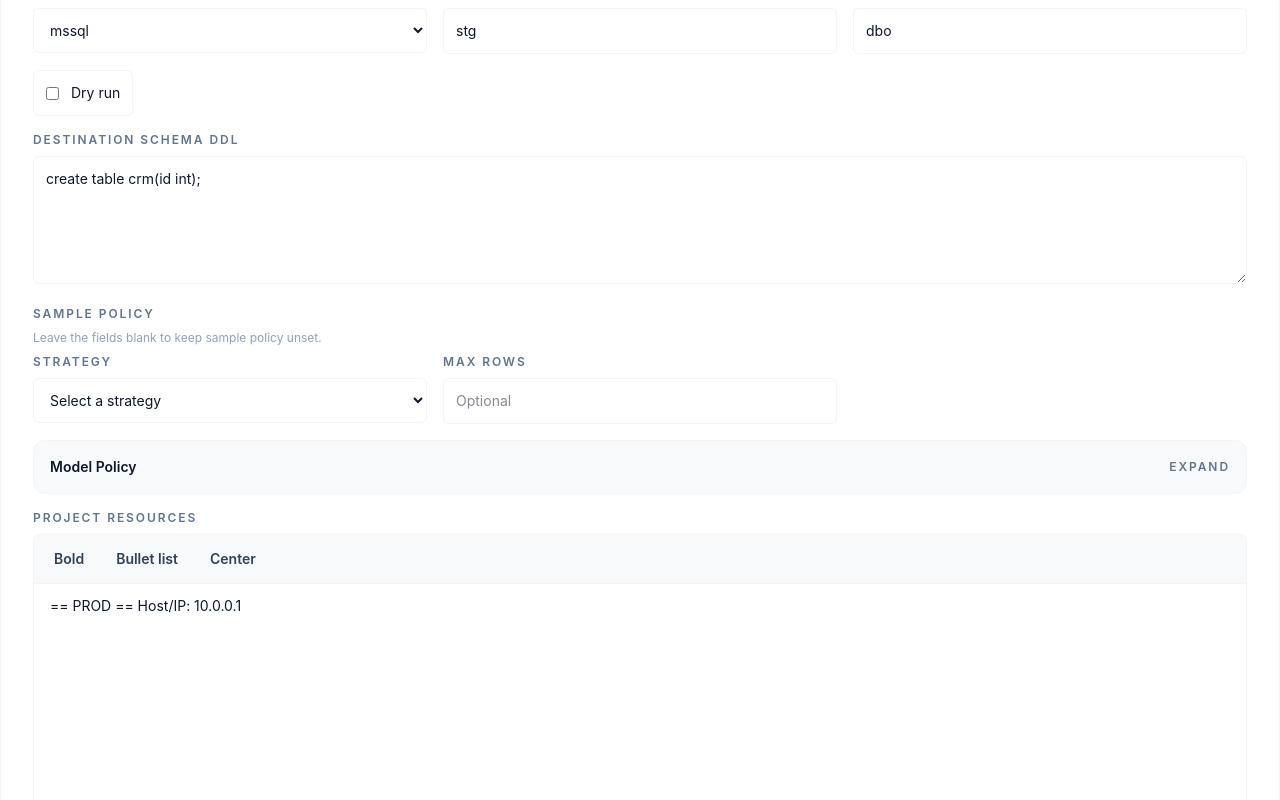
ProjectEditForm › shows the stratified column field when stratified sampling is selected
(page scrolled)
Select "Stratified" in the dropdown named "Sample policy strategy" at (230,400), box 33,378 -> 427,423
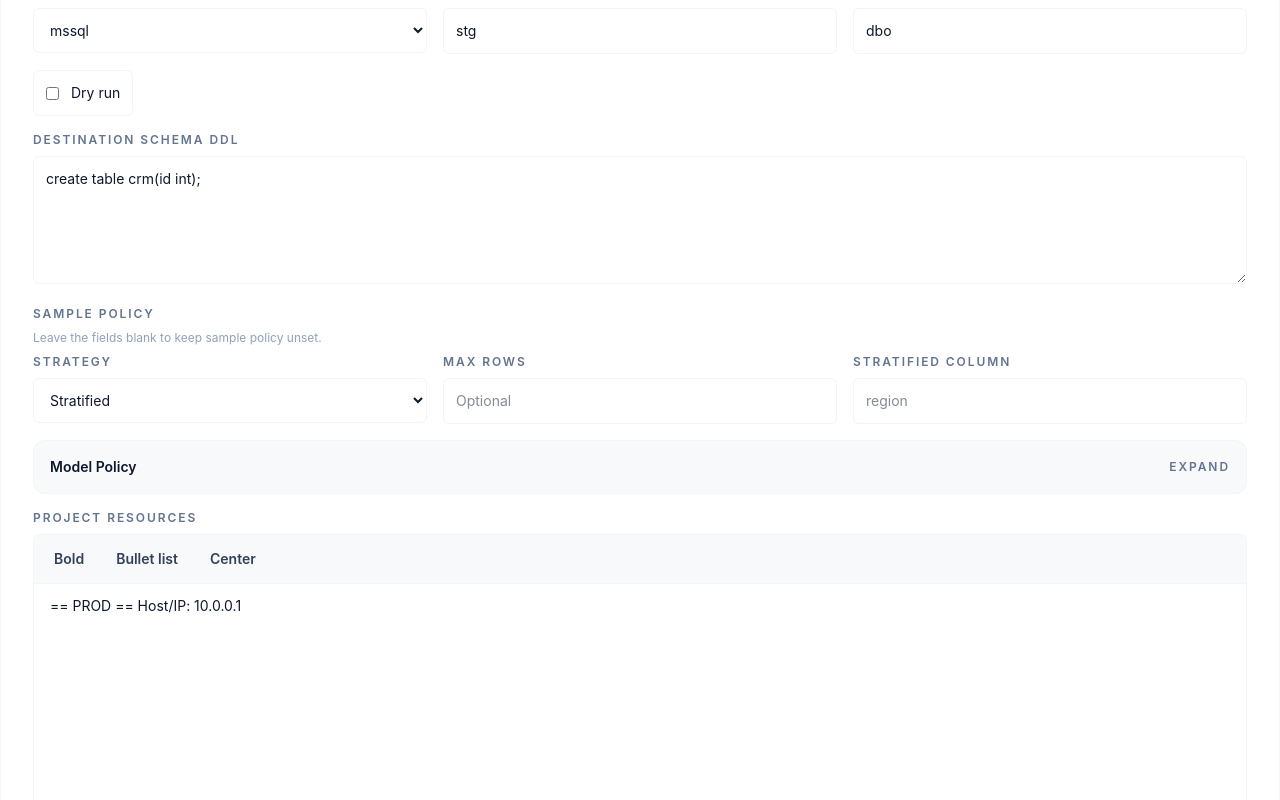
Check: the field named "Sample policy stratified column" is shown, box 853,378 -> 1247,424
